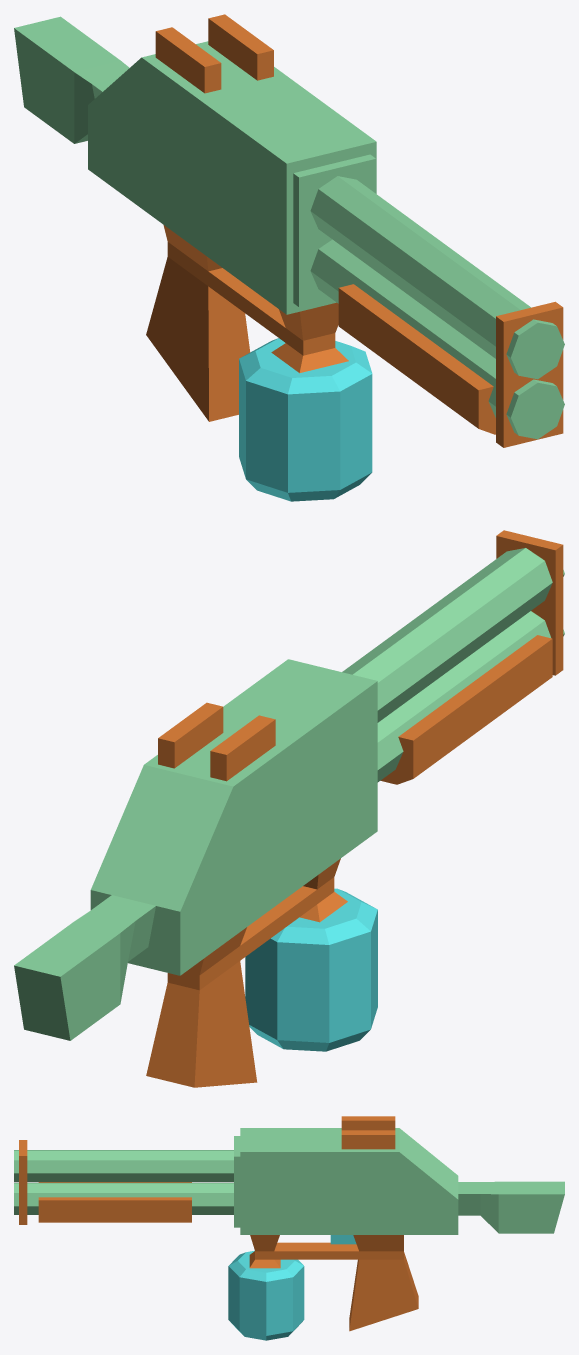
Rendered from arma.fbx.
3 renders of one model, top to bottom at view 1: azimuth 30°, elevation 25°; view 2: azimuth 150°, elevation 25°; view 3: azimuth 270°, elevation 25°, orthographic. The views are drawn at different scales.
Visible parts, largest first — view 1: Cube, Cylinder, Cube.005, Cube.006, Cube.002, Cube.001, Cube.004, Cube.003; view 2: Cube, Cylinder, Cube.005, Cube.006, Cube.002, Cube.001, Cube.004, Cube.003; view 3: Cube, Cube.005, Cylinder, Cube.006, Cube.002, Cube.003, Cube.004, Cube.001.
Boxes of the visible parts, box(x1,y1,x2,y2) form: Cube: box(88, 41, 564, 439); Cylinder: box(239, 338, 372, 501); Cube.005: box(146, 225, 348, 421); Cube.006: box(14, 16, 129, 143); Cube.002: box(338, 284, 495, 434); Cube.001: box(496, 301, 563, 447); Cube.004: box(155, 27, 221, 93); Cube.003: box(208, 14, 273, 80); Cube: box(90, 548, 564, 975); Cylinder: box(245, 888, 377, 1051); Cube.005: box(146, 858, 347, 1087); Cube.006: box(14, 895, 155, 1040); Cube.002: box(380, 635, 552, 784); Cube.001: box(496, 530, 563, 675); Cube.004: box(210, 715, 275, 781); Cube.003: box(158, 702, 223, 768); Cube: box(14, 1128, 458, 1234); Cube.005: box(249, 1235, 418, 1331); Cylinder: box(228, 1250, 304, 1340); Cube.006: box(458, 1181, 564, 1233); Cube.002: box(38, 1182, 191, 1222); Cube.003: box(341, 1130, 395, 1149); Cube.004: box(341, 1116, 395, 1130); Cube.001: box(19, 1140, 27, 1224).
Bounding box in the file's own units: 67.98 × 201 × 494.
